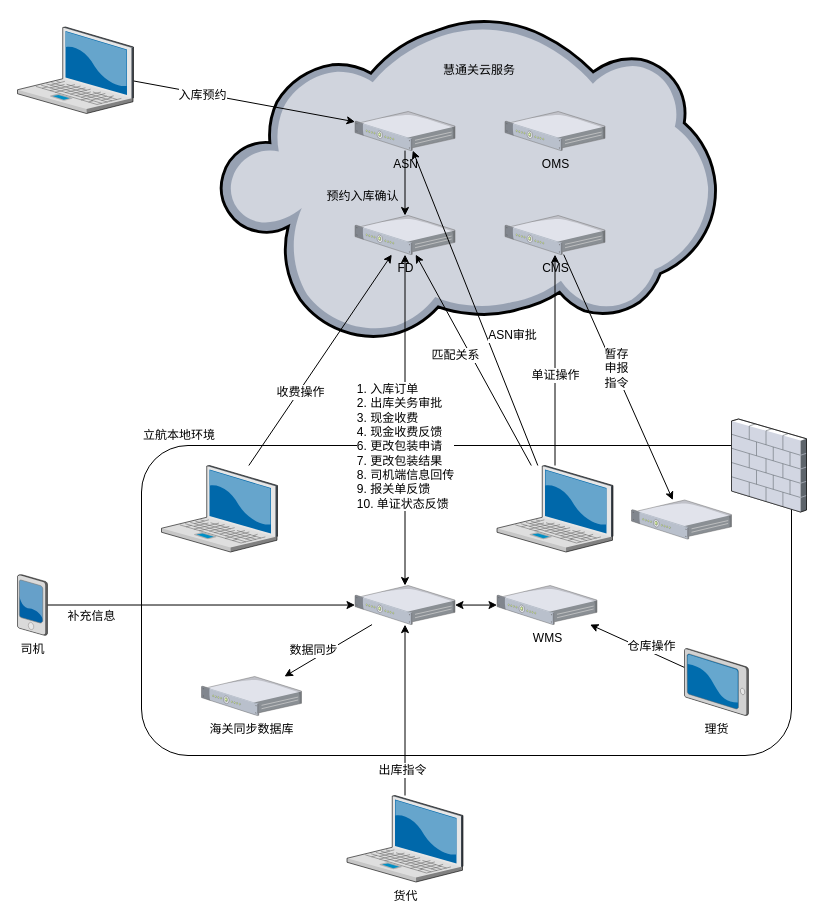
The diagram is 823 pixels wide and 920 high, and some of its shapes have lost their labels. Each missing label, with the box of its shape:
OWB: (354, 585, 454, 624)
前台接单收费: (161, 465, 277, 552)
单一窗口代理: (631, 500, 731, 539)
单证: (496, 465, 612, 552)
工厂: (17, 26, 133, 113)
